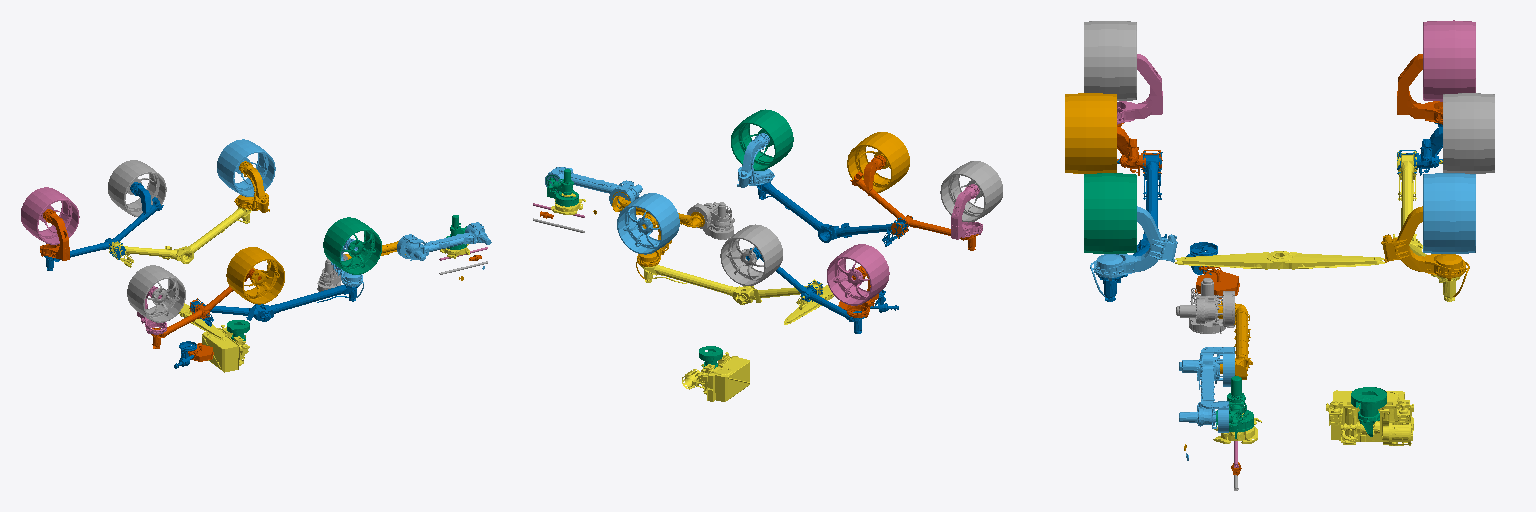
--- Render facts (derived) ---
3 views of the same robot in one strip: view 1: azimuth 30°, elevation 25°; view 2: azimuth 150°, elevation 25°; view 3: azimuth 270°, elevation 25° (orthographic).
Model Perseverance with 115 links and 114 joints (26 revolute, 3 prismatic, 85 fixed), rooted at ground, posed every joint at zero.
Visible links, largest first — view 1: Body_WheelLeftRear, Body_WheelLeftFront, Body_WheelLeftMiddle, Body_WheelRightRear, Body_WheelRightFront, Body_WheelRightMiddle, Body_RockerLeft, Body_RockerRight, Body_RA_Link3, Body_BogieRight, Body_RSM_EL, Body_SteerRightFront (+2 smaller); view 2: Body_WheelRightRear, Body_WheelRightMiddle, Body_WheelRightFront, Body_WheelLeftRear, Body_WheelLeftFront, Body_WheelLeftMiddle, Body_RSM_EL, Body_RockerRight, Body_RockerLeft, Body_BogieLeft, Body_RA_Link3, Body_RA_Link1 (+5 smaller); view 3: Body_WheelRightFront, Body_WheelLeftFront, Body_WheelLeftMiddle, Body_WheelRightMiddle, Body_WheelRightRear, Body_WheelLeftRear, Body_RSM_EL, Body_RA_Link3, Body_Differential, Body_SteerRightFront, Body_SteerLeftFront, Body_RA_Link1 (+10 smaller).
Boxes of the visible links, x1=… form: Body_WheelLeftRear: x1=127, y1=265, x2=185, y2=322; Body_WheelLeftFront: x1=323, y1=217, x2=381, y2=274; Body_WheelLeftMiddle: x1=226, y1=247, x2=284, y2=304; Body_WheelRightRear: x1=21, y1=187, x2=79, y2=244; Body_WheelRightFront: x1=217, y1=139, x2=275, y2=196; Body_WheelRightMiddle: x1=108, y1=160, x2=166, y2=216; Body_RockerLeft: x1=190, y1=285, x2=359, y2=326; Body_RockerRight: x1=109, y1=207, x2=251, y2=267; Body_RA_Link3: x1=397, y1=222, x2=491, y2=260; Body_BogieRight: x1=44, y1=182, x2=163, y2=270; Body_RSM_EL: x1=202, y1=325, x2=249, y2=372; Body_SteerRightFront: x1=234, y1=161, x2=269, y2=212; Body_WheelRightRear: x1=827, y1=244, x2=889, y2=305; Body_WheelRightMiddle: x1=720, y1=224, x2=782, y2=285; Body_WheelRightFront: x1=617, y1=193, x2=679, y2=254; Body_WheelLeftRear: x1=940, y1=161, x2=1002, y2=222; Body_WheelLeftFront: x1=731, y1=109, x2=793, y2=170; Body_WheelLeftMiddle: x1=847, y1=132, x2=909, y2=192; Body_RSM_EL: x1=682, y1=352, x2=749, y2=401; Body_RockerRight: x1=640, y1=265, x2=822, y2=309; Body_RockerLeft: x1=756, y1=182, x2=912, y2=246; Body_BogieLeft: x1=850, y1=155, x2=978, y2=250; Body_RA_Link3: x1=545, y1=167, x2=642, y2=212; Body_RA_Link1: x1=687, y1=202, x2=734, y2=239; Body_WheelRightFront: x1=1423, y1=173, x2=1475, y2=253; Body_WheelLeftFront: x1=1084, y1=173, x2=1136, y2=253; Body_WheelLeftMiddle: x1=1065, y1=93, x2=1116, y2=173; Body_WheelRightMiddle: x1=1443, y1=93, x2=1494, y2=173; Body_WheelRightRear: x1=1423, y1=20, x2=1475, y2=101; Body_WheelLeftRear: x1=1084, y1=21, x2=1136, y2=100; Body_RSM_EL: x1=1326, y1=390, x2=1413, y2=445; Body_RA_Link3: x1=1179, y1=347, x2=1234, y2=432; Body_Differential: x1=1175, y1=251, x2=1384, y2=269; Body_SteerRightFront: x1=1381, y1=206, x2=1469, y2=296; Body_SteerLeftFront: x1=1090, y1=206, x2=1177, y2=297; Body_RA_Link1: x1=1176, y1=278, x2=1234, y2=333.
Size in the robot's own frame: 4.53 by 2.7 by 2.07 metres.
29 mesh visuals loaded from 31 distinct referenced files (29 binary STL); not drawn: 2 (reference not matched to a file when rendering).

URDF robot description (Perseverance):
<?xml version="1.0" ?>
<!-- This file was generated automatically. [2021_08_18_14_10_08] -->
<!-- [Tool url: [email redacted]:CR/rst.git, branch: dev/working, commit_hash: 47e8686b, commit_time: 2021-08-16 19:00:50 -0700] -->

<robot name="Perseverance">
	<link name="ground">
	</link>
	<link name="Body_Chassis">
		<inertial>
			<origin xyz="0.09002 0 -1.13338" rpy="0 -0 0"/>
			<mass value="0"/>
			<inertia ixx="0" ixy="0" ixz="0" iyy="0" iyz="0" izz="0"/>
		</inertial>
		<visual name="VisGeom_CHASSIS">
			<origin xyz="0.09002 0 -1.13338" rpy="0 -0 0"/>
			<geometry>
				<mesh filename="package://osr_description/meshes/CHASSIS.stl" scale="1 1 1"/>
			</geometry>
		</visual>
	</link>
	<link name="Body_MHS_DebrisShield">
		<inertial>
			<origin xyz="0 0 0" rpy="0 -0 0"/>
			<mass value="0"/>
			<inertia ixx="0" ixy="0" ixz="0" iyy="0" iyz="0" izz="0"/>
		</inertial>
		<!-- hidden visual element
		<visual name="VisGeom_MHS_DebrisShield">
			<origin xyz="0 0 0" rpy="0 -0 0"/>
			<geometry>
				<mesh filename="package://osr_description/meshes/MHS_DebrisShield.stl" scale="1 1 1"/>
			</geometry>
		</visual>
		-->
	</link>
	<link name="Body_Differential">
		<inertial>
			<origin xyz="0.142 0 0" rpy="0 -0 0"/>
			<mass value="0"/>
			<inertia ixx="0" ixy="0" ixz="0" iyy="0" iyz="0" izz="0"/>
		</inertial>
		<visual name="VisGeom_CenterDifferential">
			<origin xyz="0.142 0 0" rpy="0 -0 0"/>
			<geometry>
				<mesh filename="package://osr_description/meshes/CenterDifferential.stl" scale="1 1 1"/>
			</geometry>
		</visual>
	</link>
	<link name="Body_RockerLeft">
		<inertial>
			<origin xyz="-0.214 0.79959 -0.2405" rpy="0 -0 0"/>
			<mass value="0"/>
			<inertia ixx="0" ixy="0" ixz="0" iyy="0" iyz="0" izz="0"/>
		</inertial>
		<visual name="VisGeom_Left_Rocker">
			<origin xyz="-0.214 0.79959 -0.2405" rpy="0 -0 0"/>
			<geometry>
				<mesh filename="package://osr_description/meshes/Left_Rocker.stl" scale="1 1 1"/>
			</geometry>
		</visual>
	</link>
	<link name="Body_BogieLeft">
		<inertial>
			<origin xyz="0.54 0.91959 -0.4705" rpy="0 -0 0"/>
			<mass value="0"/>
			<inertia ixx="0" ixy="0" ixz="0" iyy="0" iyz="0" izz="0"/>
		</inertial>
		<visual name="VisGeom_Left_Bogie">
			<origin xyz="0.54 0.91959 -0.4705" rpy="0 -0 0"/>
			<geometry>
				<mesh filename="package://osr_description/meshes/Left_Bogie.stl" scale="1 1 1"/>
			</geometry>
		</visual>
	</link>
	<link name="Body_SteerLeftRear">
		<inertial>
			<origin xyz="1.165 1.0625 -0.8705" rpy="0 -0 0"/>
			<mass value="0"/>
			<inertia ixx="0" ixy="0" ixz="0" iyy="0" iyz="0" izz="0"/>
		</inertial>
		<visual name="VisGeom_Steer_LeftRear">
			<origin xyz="1.165 1.0625 -0.8705" rpy="0 -0 0"/>
			<geometry>
				<mesh filename="package://osr_description/meshes/Steer_LeftRear.stl" scale="1 1 1"/>
			</geometry>
		</visual>
	</link>
	<link name="Body_WheelLeftRear">
		<inertial>
			<origin xyz="1.165 1.0625 -0.8705" rpy="0 -0 0"/>
			<mass value="0"/>
			<inertia ixx="0" ixy="0" ixz="0" iyy="0" iyz="0" izz="0"/>
		</inertial>
		<visual name="VisGeom_Wheel_LeftRear">
			<origin xyz="1.165 1.0625 -0.8705" rpy="0 -0 0"/>
			<geometry>
				<mesh filename="package://osr_description/meshes/Wheel_LeftRear.stl" scale="1 1 1"/>
			</geometry>
		</visual>
	</link>
	<link name="Body_WheelLeftMiddle">
		<inertial>
			<origin xyz="0.09002 1.1845 -0.8705" rpy="0 -0 0"/>
			<mass value="0"/>
			<inertia ixx="0" ixy="0" ixz="0" iyy="0" iyz="0" izz="0"/>
		</inertial>
		<visual name="VisGeom_Wheel_LeftMiddle">
			<origin xyz="0.09002 1.1845 -0.8705" rpy="0 -0 0"/>
			<geometry>
				<mesh filename="package://osr_description/meshes/Wheel_LeftMiddle.stl" scale="1 1 1"/>
			</geometry>
		</visual>
	</link>
	<link name="Body_SteerLeftFront">
		<inertial>
			<origin xyz="-1.095 1.0625 -0.8705" rpy="0 -0 0"/>
			<mass value="0"/>
			<inertia ixx="0" ixy="0" ixz="0" iyy="0" iyz="0" izz="0"/>
		</inertial>
		<visual name="VisGeom_Steer_LeftFront">
			<origin xyz="-1.095 1.0625 -0.8705" rpy="0 -0 0"/>
			<geometry>
				<mesh filename="package://osr_description/meshes/Steer_LeftFront.stl" scale="1 1 1"/>
			</geometry>
		</visual>
	</link>
	<link name="Body_WheelLeftFront">
		<inertial>
			<origin xyz="-1.095 1.0625 -0.8705" rpy="0 -0 0"/>
			<mass value="0"/>
			<inertia ixx="0" ixy="0" ixz="0" iyy="0" iyz="0" izz="0"/>
		</inertial>
		<visual name="VisGeom_Wheel_LeftFront">
			<origin xyz="-1.095 1.0625 -0.8705" rpy="0 -0 0"/>
			<geometry>
				<mesh filename="package://osr_description/meshes/Wheel_LeftFront.stl" scale="1 1 1"/>
			</geometry>
		</visual>
	</link>
	<link name="Body_RockerRight">
		<inertial>
			<origin xyz="-0.214 -0.79959 -0.2405" rpy="0 -0 0"/>
			<mass value="0"/>
			<inertia ixx="0" ixy="0" ixz="0" iyy="0" iyz="0" izz="0"/>
		</inertial>
		<visual name="VisGeom_Right_Rocker">
			<origin xyz="-0.214 -0.79959 -0.2405" rpy="0 -0 0"/>
			<geometry>
				<mesh filename="package://osr_description/meshes/Right_Rocker.stl" scale="1 1 1"/>
			</geometry>
		</visual>
	</link>
	<link name="Body_BogieRight">
		<inertial>
			<origin xyz="0.54 -0.91959 -0.4705" rpy="0 -0 0"/>
			<mass value="0"/>
			<inertia ixx="0" ixy="0" ixz="0" iyy="0" iyz="0" izz="0"/>
		</inertial>
		<visual name="VisGeom_Right_Bogie">
			<origin xyz="0.54 -0.91959 -0.4705" rpy="0 -0 0"/>
			<geometry>
				<mesh filename="package://osr_description/meshes/Right_Bogie.stl" scale="1 1 1"/>
			</geometry>
		</visual>
	</link>
	<link name="Body_SteerRightRear">
		<inertial>
			<origin xyz="1.165 -1.0625 -0.8705" rpy="0 -0 0"/>
			<mass value="0"/>
			<inertia ixx="0" ixy="0" ixz="0" iyy="0" iyz="0" izz="0"/>
		</inertial>
		<visual name="VisGeom_Steer_RightRear">
			<origin xyz="1.165 -1.0625 -0.8705" rpy="0 -0 0"/>
			<geometry>
				<mesh filename="package://osr_description/meshes/Steer_RightRear.stl" scale="1 1 1"/>
			</geometry>
		</visual>
	</link>
	<link name="Body_WheelRightRear">
		<inertial>
			<origin xyz="1.165 -1.0625 -0.8705" rpy="0 -0 0"/>
			<mass value="0"/>
			<inertia ixx="0" ixy="0" ixz="0" iyy="0" iyz="0" izz="0"/>
		</inertial>
		<visual name="VisGeom_Wheel_RightRear">
			<origin xyz="1.165 -1.0625 -0.8705" rpy="0 -0 0"/>
			<geometry>
				<mesh filename="package://osr_description/meshes/Wheel_RightRear.stl" scale="1 1 1"/>
			</geometry>
		</visual>
	</link>
	<link name="Body_WheelRightMiddle">
		<inertial>
			<origin xyz="0.09002 -1.1845 -0.8705" rpy="0 -0 0"/>
			<mass value="0"/>
			<inertia ixx="0" ixy="0" ixz="0" iyy="0" iyz="0" izz="0"/>
		</inertial>
		<visual name="VisGeom_Wheel_RightMiddle">
			<origin xyz="0.09002 -1.1845 -0.8705" rpy="0 -0 0"/>
			<geometry>
				<mesh filename="package://osr_description/meshes/Wheel_RightMiddle.stl" scale="1 1 1"/>
			</geometry>
		</visual>
	</link>
	<link name="Body_SteerRightFront">
		<inertial>
			<origin xyz="-1.095 -1.0625 -0.8705" rpy="0 -0 0"/>
			<mass value="0"/>
			<inertia ixx="0" ixy="0" ixz="0" iyy="0" iyz="0" izz="0"/>
		</inertial>
		<visual name="VisGeom_Steer_RightFront">
			<origin xyz="-1.095 -1.0625 -0.8705" rpy="0 -0 0"/>
			<geometry>
				<mesh filename="package://osr_description/meshes/Steer_RightFront.stl" scale="1 1 1"/>
			</geometry>
		</visual>
	</link>
	<link name="Body_WheelRightFront">
		<inertial>
			<origin xyz="-1.095 -1.0625 -0.8705" rpy="0 -0 0"/>
			<mass value="0"/>
			<inertia ixx="0" ixy="0" ixz="0" iyy="0" iyz="0" izz="0"/>
		</inertial>
		<visual name="VisGeom_Wheel_RightFront">
			<origin xyz="-1.095 -1.0625 -0.8705" rpy="0 -0 0"/>
			<geometry>
				<mesh filename="package://osr_description/meshes/Wheel_RightFront.stl" scale="1 1 1"/>
			</geometry>
		</visual>
	</link>
	<link name="Body_RSM_AZ">
		<inertial>
			<origin xyz="-0.714017 -0.559028 0.78589" rpy="0 -0 0"/>
			<mass value="0"/>
			<inertia ixx="0" ixy="0" ixz="0" iyy="0" iyz="0" izz="0"/>
		</inertial>
		<visual name="VisGeom_RSM">
			<origin xyz="-0.714017 -0.559028 0.78589" rpy="0 -0 0"/>
			<geometry>
				<mesh filename="package://osr_description/meshes/RSM.stl" scale="1 1 1"/>
			</geometry>
		</visual>
	</link>
	<link name="Body_RSM_EL">
		<inertial>
			<origin xyz="-0.714017 -0.559028 0.78589" rpy="0 -0 0"/>
			<mass value="0"/>
			<inertia ixx="0" ixy="0" ixz="0" iyy="0" iyz="0" izz="0"/>
		</inertial>
		<visual name="VisGeom_RSM_HEAD">
			<origin xyz="-0.714017 -0.559028 0.78589" rpy="0 -0 0"/>
			<geometry>
				<mesh filename="package://osr_description/meshes/RSM_Head.stl" scale="1 1 1"/>
			</geometry>
		</visual>
	</link>
	<link name="Body_HGA_AZ">
		<inertial>
			<origin xyz="0.46 0.475 -0.0005" rpy="0 -0 0"/>
			<mass value="0"/>
			<inertia ixx="0" ixy="0" ixz="0" iyy="0" iyz="0" izz="0"/>
		</inertial>
		<visual name="VisGeom_HGA_AZ">
			<origin xyz="0.46 0.475 -0.0005" rpy="0 -0 0"/>
			<geometry>
				<mesh filename="package://osr_description/meshes/HGA_AZ.stl" scale="1 1 1"/>
			</geometry>
		</visual>
	</link>
	<link name="Body_HGA_EL">
		<inertial>
			<origin xyz="0.46 0.475 0.2475" rpy="0 -0 0"/>
			<mass value="0"/>
			<inertia ixx="0" ixy="0" ixz="0" iyy="0" iyz="0" izz="0"/>
		</inertial>
		<visual name="VisGeom_HGA_EL">
			<origin xyz="0.46 0.475 0.2475" rpy="0 -0 0"/>
			<geometry>
				<mesh filename="package://osr_description/meshes/HGA_EL.stl" scale="1 1 1"/>
			</geometry>
		</visual>
	</link>
	<link name="Body_RA_Base">
		<inertial>
			<origin xyz="0 0 0" rpy="0 -0 0"/>
			<mass value="0"/>
			<inertia ixx="0" ixy="0" ixz="0" iyy="0" iyz="0" izz="0"/>
		</inertial>
	</link>
	<link name="Body_RA_Link1">
		<inertial>
			<origin xyz="-1.1756 0.4515 -0.3116" rpy="0 -0 0"/>
			<mass value="0"/>
			<inertia ixx="0" ixy="0" ixz="0" iyy="0" iyz="0" izz="0"/>
		</inertial>
		<visual name="VisGeom_Arm_LINK_1">
			<origin xyz="-1.1756 0.4515 -0.3116" rpy="0 -0 0"/>
			<geometry>
				<mesh filename="package://osr_description/meshes/Arm_LINK_1.stl" scale="1 1 1"/>
			</geometry>
		</visual>
	</link>
	<link name="Body_RA_Link2">
		<inertial>
			<origin xyz="-1.3416 0.4515 -0.3116" rpy="0 -0 0"/>
			<mass value="0"/>
			<inertia ixx="0" ixy="0" ixz="0" iyy="0" iyz="0" izz="0"/>
		</inertial>
		<visual name="VisGeom_Arm_LINK_2">
			<origin xyz="-1.3416 0.4515 -0.3116" rpy="0 -0 0"/>
			<geometry>
				<mesh filename="package://osr_description/meshes/Arm_LINK_2.stl" scale="1 1 1"/>
			</geometry>
		</visual>
	</link>
	<link name="Body_RA_Link3">
		<inertial>
			<origin xyz="-2.161 0.4515 -0.3116" rpy="0 -0 0"/>
			<mass value="0"/>
			<inertia ixx="0" ixy="0" ixz="0" iyy="0" iyz="0" izz="0"/>
		</inertial>
		<visual name="VisGeom_Arm_LINK_3">
			<origin xyz="-2.161 0.4515 -0.3116" rpy="0 -0 0"/>
			<geometry>
				<mesh filename="package://osr_description/meshes/Arm_LINK_3.stl" scale="1 1 1"/>
			</geometry>
		</visual>
	</link>
	<link name="Body_RA_Link4">
		<inertial>
			<origin xyz="-2.9143 0.4515 -0.3116" rpy="0 -0 0"/>
			<mass value="0"/>
			<inertia ixx="0" ixy="0" ixz="0" iyy="0" iyz="0" izz="0"/>
		</inertial>
		<visual name="VisGeom_Arm_LINK_4">
			<origin xyz="-2.9143 0.4515 -0.3116" rpy="0 -0 0"/>
			<geometry>
				<mesh filename="package://osr_description/meshes/Arm_LINK_4.stl" scale="1 1 1"/>
			</geometry>
		</visual>
	</link>
	<link name="Body_RA_Link5">
		<inertial>
			<origin xyz="-2.7386 0.2724 -0.3116" rpy="0 -0 0"/>
			<mass value="0"/>
			<inertia ixx="0" ixy="0" ixz="0" iyy="0" iyz="0" izz="0"/>
		</inertial>
		<visual name="VisGeom_Arm_LINK_5">
			<origin xyz="-2.7386 0.2724 -0.3116" rpy="0 -0 0"/>
			<geometry>
				<mesh filename="package://osr_description/meshes/Arm_LINK_5.stl" scale="1 1 1"/>
			</geometry>
		</visual>
	</link>
	<link name="Body_Turret">
		<inertial>
			<origin xyz="0 0 0" rpy="0 -0 0"/>
			<mass value="0"/>
			<inertia ixx="0" ixy="0" ixz="0" iyy="0" iyz="0" izz="0"/>
		</inertial>
		<visual name="VisGeom_Turret">
			<origin xyz="0 0 0" rpy="0 -0 0"/>
			<geometry>
				<mesh filename="package://osr_description/meshes/Turret.stl" scale="1 1 1"/>
			</geometry>
		</visual>
	</link>
	<link name="Body_CorerFeed">
		<inertial>
			<origin xyz="-2.5301 0.272349 0.0168656" rpy="0 -0 0"/>
			<mass value="0"/>
			<inertia ixx="0" ixy="0" ixz="0" iyy="0" iyz="0" izz="0"/>
		</inertial>
		<!-- hidden visual element
		<visual name="VisGeom_LaunchBit">
			<origin xyz="0.208499 -5.1e-05 -3.438e-05" rpy="0 -0 0"/>
			<geometry>
				<mesh filename="package://osr_description/meshes/LaunchBitInTurretAtZeroFeed.stl" scale="1 1 1"/>
			</geometry>
		</visual>
		-->
		<visual name="VisGeom_AbradingBit">
			<origin xyz="0.208499 -5.1e-05 -3.438e-05" rpy="0 -0 0"/>
			<geometry>
				<mesh filename="package://osr_description/meshes/AbradingBitInTurretAtZeroFeed.stl" scale="1 1 1"/>
			</geometry>
		</visual>
		<!-- hidden visual element
		<visual name="VisGeom_CoringBit">
			<origin xyz="0.208499 -5.1e-05 -3.438e-05" rpy="0 -0 0"/>
			<geometry>
				<mesh filename="package://osr_description/meshes/CoringBitInTurretAtZeroFeed.stl" scale="1 1 1"/>
			</geometry>
		</visual>
		-->
		<!-- hidden visual element
		<visual name="VisGeom_RegolithBit">
			<origin xyz="0.208499 -5.1e-05 -3.438e-05" rpy="0 -0 0"/>
			<geometry>
				<mesh filename="package://osr_description/meshes/RegolithBitInTurretAtZeroFeed.stl" scale="1 1 1"/>
			</geometry>
		</visual>
		-->
	</link>
	<link name="Body_StabilizerFar">
		<inertial>
			<origin xyz="-2.5301 0.272349 0.0168656" rpy="0 -0 0"/>
			<mass value="0"/>
			<inertia ixx="0" ixy="0" ixz="0" iyy="0" iyz="0" izz="0"/>
		</inertial>
		<visual name="VisGeom_StabilizerFar">
			<origin xyz="0.208499 -5.1e-05 -3.438e-05" rpy="0 -0 0"/>
			<geometry>
				<mesh filename="package://osr_description/meshes/StabilizerFarInTurret.stl" scale="1 1 1"/>
			</geometry>
		</visual>
	</link>
	<link name="Body_StabilizerNear">
		<inertial>
			<origin xyz="-2.5301 0.272349 0.0168656" rpy="0 -0 0"/>
			<mass value="0"/>
			<inertia ixx="0" ixy="0" ixz="0" iyy="0" iyz="0" izz="0"/>
		</inertial>
		<visual name="VisGeom_StabilizerNear">
			<origin xyz="0.208499 -5.1e-05 -3.438e-05" rpy="0 -0 0"/>
			<geometry>
				<mesh filename="package://osr_description/meshes/StabilizerNearInTurret.stl" scale="1 1 1"/>
			</geometry>
		</visual>
	</link>
	<link name="Body_WATSON_Cap">
		<inertial>
			<origin xyz="-2.6025 0.581204 0.0309103" rpy="0 -0 0"/>
			<mass value="0"/>
			<inertia ixx="0" ixy="0" ixz="0" iyy="0" iyz="0" izz="0"/>
		</inertial>
		<visual name="VisGeom_WATSON_Cap">
			<origin xyz="-2.6025 0.581204 0.0309103" rpy="0 -0 0"/>
			<geometry>
				<mesh filename="package://osr_description/meshes/WATSON_Camera_Cap.stl" scale="1 1 1"/>
			</geometry>
		</visual>
	</link>
	<link name="Body_SHERLOC_Cap">
		<inertial>
			<origin xyz="-2.86084 0.58439 -0.0124626" rpy="0 -0 0"/>
			<mass value="0"/>
			<inertia ixx="0" ixy="0" ixz="0" iyy="0" iyz="0" izz="0"/>
		</inertial>
		<visual name="VisGeom_SHERLOC_Cap">
			<origin xyz="-2.86084 0.58439 -0.0124626" rpy="0 -0 0"/>
			<geometry>
				<mesh filename="package://osr_description/meshes/ContextImager_Cap.stl" scale="1 1 1"/>
			</geometry>
		</visual>
	</link>
	<link name="Frame_RNAV">
		<inertial>
			<origin xyz="0 0 0" rpy="0 -0 0"/>
			<mass value="0"/>
			<inertia ixx="0" ixy="0" ixz="0" iyy="0" iyz="0" izz="0"/>
		</inertial>
	</link>
	<link name="Frame_RMECH">
		<inertial>
			<origin xyz="0 0 0" rpy="0 -0 0"/>
			<mass value="0"/>
			<inertia ixx="0" ixy="0" ixz="0" iyy="0" iyz="0" izz="0"/>
		</inertial>
	</link>
	<link name="Frame_FHCB">
		<inertial>
			<origin xyz="0 0 0" rpy="0 -0 0"/>
			<mass value="0"/>
			<inertia ixx="0" ixy="0" ixz="0" iyy="0" iyz="0" izz="0"/>
		</inertial>
	</link>
	<link name="Frame_FHC1">
		<inertial>
			<origin xyz="0 0 0" rpy="0 -0 0"/>
			<mass value="0"/>
			<inertia ixx="0" ixy="0" ixz="0" iyy="0" iyz="0" izz="0"/>
		</inertial>
	</link>
	<link name="Frame_FHC2">
		<inertial>
			<origin xyz="0 0 0" rpy="0 -0 0"/>
			<mass value="0"/>
			<inertia ixx="0" ixy="0" ixz="0" iyy="0" iyz="0" izz="0"/>
		</inertial>
	</link>
	<link name="Frame_FHC3">
		<inertial>
			<origin xyz="0 0 0" rpy="0 -0 0"/>
			<mass value="0"/>
			<inertia ixx="0" ixy="0" ixz="0" iyy="0" iyz="0" izz="0"/>
		</inertial>
	</link>
	<link name="Frame_FHC4">
		<inertial>
			<origin xyz="0 0 0" rpy="0 -0 0"/>
			<mass value="0"/>
			<inertia ixx="0" ixy="0" ixz="0" iyy="0" iyz="0" izz="0"/>
		</inertial>
	</link>
	<link name="Frame_FHC1_FOV">
		<inertial>
			<origin xyz="0 0 0" rpy="0 -0 0"/>
			<mass value="0"/>
			<inertia ixx="0" ixy="0" ixz="0" iyy="0" iyz="0" izz="0"/>
		</inertial>
	</link>
	<link name="Frame_FHC2_FOV">
		<inertial>
			<origin xyz="0 0 0" rpy="0 -0 0"/>
			<mass value="0"/>
			<inertia ixx="0" ixy="0" ixz="0" iyy="0" iyz="0" izz="0"/>
		</inertial>
	</link>
	<link name="Frame_FHC3_FOV">
		<inertial>
			<origin xyz="0 0 0" rpy="0 -0 0"/>
			<mass value="0"/>
			<inertia ixx="0" ixy="0" ixz="0" iyy="0" iyz="0" izz="0"/>
		</inertial>
	</link>
	<link name="Frame_FHC4_FOV">
		<inertial>
			<origin xyz="0 0 0" rpy="0 -0 0"/>
			<mass value="0"/>
			<inertia ixx="0" ixy="0" ixz="0" iyy="0" iyz="0" izz="0"/>
		</inertial>
	</link>
	<link name="Frame_RHC1">
		<inertial>
			<origin xyz="0 0 0" rpy="0 -0 0"/>
			<mass value="0"/>
			<inertia ixx="0" ixy="0" ixz="0" iyy="0" iyz="0" izz="0"/>
		</inertial>
	</link>
	<link name="Frame_RHC2">
		<inertial>
			<origin xyz="0 0 0" rpy="0 -0 0"/>
			<mass value="0"/>
			<inertia ixx="0" ixy="0" ixz="0" iyy="0" iyz="0" izz="0"/>
		</inertial>
	</link>
	<link name="Frame_RHC1_FOV">
		<inertial>
			<origin xyz="0 0 0" rpy="0 -0 0"/>
			<mass value="0"/>
			<inertia ixx="0" ixy="0" ixz="0" iyy="0" iyz="0" izz="0"/>
		</inertial>
	</link>
	<link name="Frame_RHC2_FOV">
		<inertial>
			<origin xyz="0 0 0" rpy="0 -0 0"/>
			<mass value="0"/>
			<inertia ixx="0" ixy="0" ixz="0" iyy="0" iyz="0" izz="0"/>
		</inertial>
	</link>
	<link name="Frame_ATS1">
		<inertial>
			<origin xyz="0 0 0" rpy="0 -0 0"/>
			<mass value="0"/>
			<inertia ixx="0" ixy="0" ixz="0" iyy="0" iyz="0" izz="0"/>
		</inertial>
	</link>
	<link name="Frame_ATS2">
		<inertial>
			<origin xyz="0 0 0" rpy="0 -0 0"/>
			<mass value="0"/>
			<inertia ixx="0" ixy="0" ixz="0" iyy="0" iyz="0" izz="0"/>
		</inertial>
	</link>
	<link name="Frame_ATS3">
		<inertial>
			<origin xyz="0 0 0" rpy="0 -0 0"/>
			<mass value="0"/>
			<inertia ixx="0" ixy="0" ixz="0" iyy="0" iyz="0" izz="0"/>
		</inertial>
	</link>
	<link name="Frame_ATS4">
		<inertial>
			<origin xyz="0 0 0" rpy="0 -0 0"/>
			<mass value="0"/>
			<inertia ixx="0" ixy="0" ixz="0" iyy="0" iyz="0" izz="0"/>
		</inertial>
	</link>
	<link name="Frame_ATS5">
		<inertial>
			<origin xyz="0 0 0" rpy="0 -0 0"/>
			<mass value="0"/>
			<inertia ixx="0" ixy="0" ixz="0" iyy="0" iyz="0" izz="0"/>
		</inertial>
	</link>
	<link name="Frame_HS">
		<inertial>
			<origin xyz="0 0 0" rpy="0 -0 0"/>
			<mass value="0"/>
			<inertia ixx="0" ixy="0" ixz="0" iyy="0" iyz="0" izz="0"/>
		</inertial>
	</link>
	<link name="Frame_ICU">
		<inertial>
			<origin xyz="0 0 0" rpy="0 -0 0"/>
			<mass value="0"/>
			<inertia ixx="0" ixy="0" ixz="0" iyy="0" iyz="0" izz="0"/>
		</inertial>
	</link>
	<link name="Frame_RDS">
		<inertial>
			<origin xyz="0 0 0" rpy="0 -0 0"/>
			<mass value="0"/>
			<inertia ixx="0" ixy="0" ixz="0" iyy="0" iyz="0" izz="0"/>
		</inertial>
	</link>
	<link name="Frame_TIRS">
		<inertial>
			<origin xyz="0 0 0" rpy="0 -0 0"/>
			<mass value="0"/>
			<inertia ixx="0" ixy="0" ixz="0" iyy="0" iyz="0" izz="0"/>
		</inertial>
	</link>
	<link name="Frame_WS1">
		<inertial>
			<origin xyz="0 0 0" rpy="0 -0 0"/>
			<mass value="0"/>
			<inertia ixx="0" ixy="0" ixz="0" iyy="0" iyz="0" izz="0"/>
		</inertial>
	</link>
	<link name="Frame_WS2">
		<inertial>
			<origin xyz="0 0 0" rpy="0 -0 0"/>
			<mass value="0"/>
			<inertia ixx="0" ixy="0" ixz="0" iyy="0" iyz="0" izz="0"/>
		</inertial>
	</link>
	<link name="Frame_MOXIE">
		<inertial>
			<origin xyz="0 0 0" rpy="0 -0 0"/>
			<mass value="0"/>
			<inertia ixx="0" ixy="0" ixz="0" iyy="0" iyz="0" izz="0"/>
		</inertial>
	</link>
	<link name="Frame_MI">
		<inertial>
			<origin xyz="0 0 0" rpy="0 -0 0"/>
			<mass value="0"/>
			<inertia ixx="0" ixy="0" ixz="0" iyy="0" iyz="0" izz="0"/>
		</inertial>
	</link>
	<link name="Frame_MAZ">
		<inertial>
			<origin xyz="0 0 0" rpy="0 -0 0"/>
			<mass value="0"/>
			<inertia ixx="0" ixy="0" ixz="0" iyy="0" iyz="0" izz="0"/>
		</inertial>
	</link>
	<link name="Frame_MEL">
		<inertial>
			<origin xyz="0 0 0" rpy="0 -0 0"/>
			<mass value="0"/>
			<inertia ixx="0" ixy="0" ixz="0" iyy="0" iyz="0" izz="0"/>
		</inertial>
	</link>
	<link name="Frame_SCI">
		<inertial>
			<origin xyz="0 0 0" rpy="0 -0 0"/>
			<mass value="0"/>
			<inertia ixx="0" ixy="0" ixz="0" iyy="0" iyz="0" izz="0"/>
		</inertial>
	</link>
	<link name="Frame_SCRMI">
		<inertial>
			<origin xyz="0 0 0" rpy="0 -0 0"/>
			<mass value="0"/>
			<inertia ixx="0" ixy="0" ixz="0" iyy="0" iyz="0" izz="0"/>
		</inertial>
	</link>
	<link name="Frame_SCLIBS">
		<inertial>
			<origin xyz="0 0 0" rpy="0 -0 0"/>
			<mass value="0"/>
			<inertia ixx="0" ixy="0" ixz="0" iyy="0" iyz="0" izz="0"/>
		</inertial>
	</link>
	<link name="Frame_SCIR">
		<inertial>
			<origin xyz="0 0 0" rpy="0 -0 0"/>
			<mass value="0"/>
			<inertia ixx="0" ixy="0" ixz="0" iyy="0" iyz="0" izz="0"/>
		</inertial>
	</link>
	<link name="Frame_MCL">
		<inertial>
			<origin xyz="0 0 0" rpy="0 -0 0"/>
			<mass value="0"/>
			<inertia ixx="0" ixy="0" ixz="0" iyy="0" iyz="0" izz="0"/>
		</inertial>
	</link>
	<link name="Frame_MCR">
		<inertial>
			<origin xyz="0 0 0" rpy="0 -0 0"/>
			<mass value="0"/>
			<inertia ixx="0" ixy="0" ixz="0" iyy="0" iyz="0" izz="0"/>
		</inertial>
	</link>
	<link name="Frame_NCL">
		<inertial>
			<origin xyz="0 0 0" rpy="0 -0 0"/>
			<mass value="0"/>
			<inertia ixx="0" ixy="0" ixz="0" iyy="0" iyz="0" izz="0"/>
		</inertial>
	</link>
	<link name="Frame_NCR">
		<inertial>
			<origin xyz="0 0 0" rpy="0 -0 0"/>
			<mass value="0"/>
			<inertia ixx="0" ixy="0" ixz="0" iyy="0" iyz="0" izz="0"/>
		</inertial>
	</link>
	<link name="Frame_NCL_FOV">
		<inertial>
			<origin xyz="0 0 0" rpy="0 -0 0"/>
			<mass value="0"/>
			<inertia ixx="0" ixy="0" ixz="0" iyy="0" iyz="0" izz="0"/>
		</inertial>
	</link>
	<link name="Frame_NCR_FOV">
		<inertial>
			<origin xyz="0 0 0" rpy="0 -0 0"/>
			<mass value="0"/>
			<inertia ixx="0" ixy="0" ixz="0" iyy="0" iyz="0" izz="0"/>
		</inertial>
	</link>
	<link name="Frame_ROCKER_L">
		<inertial>
			<origin xyz="0 0 0" rpy="0 -0 0"/>
			<mass value="0"/>
			<inertia ixx="0" ixy="0" ixz="0" iyy="0" iyz="0" izz="0"/>
		</inertial>
	</link>
	<link name="Frame_ROCKER_R">
		<inertial>
			<origin xyz="0 0 0" rpy="0 -0 0"/>
			<mass value="0"/>
			<inertia ixx="0" ixy="0" ixz="0" iyy="0" iyz="0" izz="0"/>
		</inertial>
	</link>
	<link name="Frame_BOGIE_L">
		<inertial>
			<origin xyz="0 0 0" rpy="0 -0 0"/>
			<mass value="0"/>
			<inertia ixx="0" ixy="0" ixz="0" iyy="0" iyz="0" izz="0"/>
		</inertial>
	</link>
	<link name="Frame_BOGIE_R">
		<inertial>
			<origin xyz="0 0 0" rpy="0 -0 0"/>
			<mass value="0"/>
			<inertia ixx="0" ixy="0" ixz="0" iyy="0" iyz="0" izz="0"/>
		</inertial>
	</link>
	<link name="Frame_DIFF">
		<inertial>
			<origin xyz="0 0 0" rpy="0 -0 0"/>
			<mass value="0"/>
			<inertia ixx="0" ixy="0" ixz="0" iyy="0" iyz="0" izz="0"/>
		</inertial>
	</link>
	<link name="Frame_STEER_LF">
		<inertial>
			<origin xyz="0 0 0" rpy="0 -0 0"/>
			<mass value="0"/>
			<inertia ixx="0" ixy="0" ixz="0" iyy="0" iyz="0" izz="0"/>
		</inertial>
	</link>
	<link name="Frame_STEER_LR">
		<inertial>
			<origin xyz="0 0 0" rpy="0 -0 0"/>
			<mass value="0"/>
			<inertia ixx="0" ixy="0" ixz="0" iyy="0" iyz="0" izz="0"/>
		</inertial>
	</link>
	<link name="Frame_STEER_RF">
		<inertial>
			<origin xyz="0 0 0" rpy="0 -0 0"/>
			<mass value="0"/>
			<inertia ixx="0" ixy="0" ixz="0" iyy="0" iyz="0" izz="0"/>
		</inertial>
	</link>
	<link name="Frame_STEER_RR">
		<inertial>
			<origin xyz="0 0 0" rpy="0 -0 0"/>
			<mass value="0"/>
			<inertia ixx="0" ixy="0" ixz="0" iyy="0" iyz="0" izz="0"/>
		</inertial>
	</link>
	<link name="Frame_WHEEL_LF">
		<inertial>
			<origin xyz="0 0 0" rpy="0 -0 0"/>
			<mass value="0"/>
			<inertia ixx="0" ixy="0" ixz="0" iyy="0" iyz="0" izz="0"/>
		</inertial>
	</link>
	<link name="Frame_WHEEL_LM">
		<inertial>
			<origin xyz="0 0 0" rpy="0 -0 0"/>
			<mass value="0"/>
			<inertia ixx="0" ixy="0" ixz="0" iyy="0" iyz="0" izz="0"/>
		</inertial>
	</link>
	<link name="Frame_WHEEL_LR">
		<inertial>
			<origin xyz="0 0 0" rpy="0 -0 0"/>
			<mass value="0"/>
			<inertia ixx="0" ixy="0" ixz="0" iyy="0" iyz="0" izz="0"/>
		</inertial>
	</link>
	<link name="Frame_WHEEL_RF">
		<inertial>
			<origin xyz="0 0 0" rpy="0 -0 0"/>
			<mass value="0"/>
			<inertia ixx="0" ixy="0" ixz="0" iyy="0" iyz="0" izz="0"/>
		</inertial>
	</link>
	<link name="Frame_WHEEL_RM">
		<inertial>
			<origin xyz="0 0 0" rpy="0 -0 0"/>
			<mass value="0"/>
			<inertia ixx="0" ixy="0" ixz="0" iyy="0" iyz="0" izz="0"/>
		</inertial>
	</link>
	<link name="Frame_WHEEL_RR">
		<inertial>
			<origin xyz="0 0 0" rpy="0 -0 0"/>
			<mass value="0"/>
			<inertia ixx="0" ixy="0" ixz="0" iyy="0" iyz="0" izz="0"/>
		</inertial>
	</link>
	<link name="Frame_RIMUA">
		<inertial>
			<origin xyz="0 0 0" rpy="0 -0 0"/>
			<mass value="0"/>
			<inertia ixx="0" ixy="0" ixz="0" iyy="0" iyz="0" izz="0"/>
		</inertial>
	</link>
	<link name="Frame_RIMUB">
		<inertial>
			<origin xyz="0 0 0" rpy="0 -0 0"/>
			<mass value="0"/>
			<inertia ixx="0" ixy="0" ixz="0" iyy="0" iyz="0" izz="0"/>
		</inertial>
	</link>
	<link name="Frame_RIMFAX">
		<inertial>
			<origin xyz="0 0 0" rpy="0 -0 0"/>
			<mass value="0"/>
			<inertia ixx="0" ixy="0" ixz="0" iyy="0" iyz="0" izz="0"/>
		</inertial>
	</link>
	<link name="Frame_HGAS">
		<inertial>
			<origin xyz="0 0 0" rpy="0 -0 0"/>
			<mass value="0"/>
			<inertia ixx="0" ixy="0" ixz="0" iyy="0" iyz="0" izz="0"/>
		</inertial>
	</link>
	<link name="Frame_HGAG">
		<inertial>
			<origin xyz="0 0 0" rpy="0 -0 0"/>
			<mass value="0"/>
			<inertia ixx="0" ixy="0" ixz="0" iyy="0" iyz="0" izz="0"/>
		</inertial>
	</link>
	<link name="Frame_ANT">
		<inertial>
			<origin xyz="0 0 0" rpy="0 -0 0"/>
			<mass value="0"/>
			<inertia ixx="0" ixy="0" ixz="0" iyy="0" iyz="0" izz="0"/>
		</inertial>
	</link>
	<link name="Frame_RA_BASE">
		<inertial>
			<origin xyz="0 0 0" rpy="0 -0 0"/>
			<mass value="0"/>
			<inertia ixx="0" ixy="0" ixz="0" iyy="0" iyz="0" izz="0"/>
		</inertial>
	</link>
	<link name="Frame_RA1">
		<inertial>
			<origin xyz="0 0 0" rpy="0 -0 0"/>
			<mass value="0"/>
			<inertia ixx="0" ixy="0" ixz="0" iyy="0" iyz="0" izz="0"/>
		</inertial>
	</link>
	<link name="Frame_RA2">
		<inertial>
			<origin xyz="0 0 0" rpy="0 -0 0"/>
			<mass value="0"/>
			<inertia ixx="0" ixy="0" ixz="0" iyy="0" iyz="0" izz="0"/>
		</inertial>
	</link>
	<link name="Frame_RA3">
		<inertial>
			<origin xyz="0 0 0" rpy="0 -0 0"/>
			<mass value="0"/>
			<inertia ixx="0" ixy="0" ixz="0" iyy="0" iyz="0" izz="0"/>
		</inertial>
	</link>
	<link name="Frame_RA4">
		<inertial>
			<origin xyz="0 0 0" rpy="0 -0 0"/>
			<mass value="0"/>
			<inertia ixx="0" ixy="0" ixz="0" iyy="0" iyz="0" izz="0"/>
		</inertial>
	</link>
	<link name="Frame_RA5">
		<inertial>
			<origin xyz="0 0 0" rpy="0 -0 0"/>
			<mass value="0"/>
			<inertia ixx="0" ixy="0" ixz="0" iyy="0" iyz="0" izz="0"/>
		</inertial>
	</link>
	<link name="Frame_RA6">
		<inertial>
			<origin xyz="0 0 0" rpy="0 -0 0"/>
			<mass value="0"/>
			<inertia ixx="0" ixy="0" ixz="0" iyy="0" iyz="0" izz="0"/>
		</inertial>
	</link>
	<link name="Frame_TURRET">
		<inertial>
			<origin xyz="0 0 0" rpy="0 -0 0"/>
			<mass value="0"/>
			<inertia ixx="0" ixy="0" ixz="0" iyy="0" iyz="0" izz="0"/>
		</inertial>
	</link>
	<link name="Frame_DOCKING_POST">
		<inertial>
			<origin xyz="0 0 0" rpy="0 -0 0"/>
			<mass value="0"/>
			<inertia ixx="0" ixy="0" ixz="0" iyy="0" iyz="0" izz="0"/>
		</inertial>
	</link>
	<link name="Frame_DRILL">
		<inertial>
			<origin xyz="0 0 0" rpy="0 -0 0"/>
			<mass value="0"/>
			<inertia ixx="0" ixy="0" ixz="0" iyy="0" iyz="0" izz="0"/>
		</inertial>
	</link>
	<link name="Frame_FCS">
		<inertial>
			<origin xyz="0 0 0" rpy="0 -0 0"/>
			<mass value="0"/>
			<inertia ixx="0" ixy="0" ixz="0" iyy="0" iyz="0" izz="0"/>
		</inertial>
	</link>
	<link name="Frame_GDRT">
		<inertial>
			<origin xyz="0 0 0" rpy="0 -0 0"/>
			<mass value="0"/>
			<inertia ixx="0" ixy="0" ixz="0" iyy="0" iyz="0" izz="0"/>
		</inertial>
	</link>
	<link name="Frame_PIXL">
		<inertial>
			<origin xyz="0 0 0" rpy="0 -0 0"/>
			<mass value="0"/>
			<inertia ixx="0" ixy="0" ixz="0" iyy="0" iyz="0" izz="0"/>
		</inertial>
	</link>
	<link name="Frame_SHERLOC">
		<inertial>
			<origin xyz="0 0 0" rpy="0 -0 0"/>
			<mass value="0"/>
			<inertia ixx="0" ixy="0" ixz="0" iyy="0" iyz="0" izz="0"/>
		</inertial>
	</link>
	<link name="Frame_WATSON">
		<inertial>
			<origin xyz="0 0 0" rpy="0 -0 0"/>
			<mass value="0"/>
			<inertia ixx="0" ixy="0" ixz="0" iyy="0" iyz="0" izz="0"/>
		</inertial>
	</link>
	<link name="Frame_CAL_MC1">
		<inertial>
			<origin xyz="0 0 0" rpy="0 -0 0"/>
			<mass value="0"/>
			<inertia ixx="0" ixy="0" ixz="0" iyy="0" iyz="0" izz="0"/>
		</inertial>
	</link>
	<link name="Frame_CAL_MC2">
		<inertial>
			<origin xyz="0 0 0" rpy="0 -0 0"/>
			<mass value="0"/>
			<inertia ixx="0" ixy="0" ixz="0" iyy="0" iyz="0" izz="0"/>
		</inertial>
	</link>
	<link name="Frame_CAL_SC">
		<inertial>
			<origin xyz="0 0 0" rpy="0 -0 0"/>
			<mass value="0"/>
			<inertia ixx="0" ixy="0" ixz="0" iyy="0" iyz="0" izz="0"/>
		</inertial>
	</link>
	<link name="Frame_CAL_PIXL">
		<inertial>
			<origin xyz="0 0 0" rpy="0 -0 0"/>
			<mass value="0"/>
			<inertia ixx="0" ixy="0" ixz="0" iyy="0" iyz="0" izz="0"/>
		</inertial>
	</link>
	<link name="Frame_CAL_SHERLOC">
		<inertial>
			<origin xyz="0 0 0" rpy="0 -0 0"/>
			<mass value="0"/>
			<inertia ixx="0" ixy="0" ixz="0" iyy="0" iyz="0" izz="0"/>
		</inertial>
	</link>
	<joint name="JointRoot" type="fixed">
		<origin xyz="0 0 0" rpy="0 -0 0"/>
		<parent link="ground"/>
		<child link="Body_Chassis"/>
	</joint>
	<joint name="Joint_MHS_DebrisShield" type="fixed">
		<origin xyz="0.09002 0 -1.13338" rpy="0 -0 0"/>
		<parent link="Body_Chassis"/>
		<child link="Body_MHS_DebrisShield"/>
	</joint>
	<joint name="CENTER_DIFFERENTIAL" type="revolute">
		<origin xyz="-0.05198 0 -1.13338" rpy="0 -0 0"/>
		<parent link="Body_Chassis"/>
		<child link="Body_Differential"/>
		<axis xyz="0 0 1"/>
		<limit lower="-1.79769e+308" upper="1.79769e+308" effort="1.79769e+308" velocity="1.79769e+308"/>
	</joint>
	<joint name="LEFT_DIFFERENTIAL" type="revolute">
		<origin xyz="0.30402 -0.79959 -0.89288" rpy="0 -0 0"/>
		<parent link="Body_Chassis"/>
		<child link="Body_RockerLeft"/>
		<axis xyz="0 1 0"/>
		<limit lower="-1.79769e+308" upper="1.79769e+308" effort="1.79769e+308" velocity="1.79769e+308"/>
	</joint>
	<joint name="LEFT_BOGIE" type="revolute">
		<origin xyz="-0.754 -0.12 0.23" rpy="0 -0 0"/>
		<parent link="Body_RockerLeft"/>
		<child link="Body_BogieLeft"/>
		<axis xyz="0 1 0"/>
		<limit lower="-1.79769e+308" upper="1.79769e+308" effort="1.79769e+308" velocity="1.79769e+308"/>
	</joint>
	<joint name="LR_STEER" type="revolute">
		<origin xyz="-0.625 -0.14291 0.4" rpy="0 -0 0"/>
		<parent link="Body_BogieLeft"/>
		<child link="Body_SteerLeftRear"/>
		<axis xyz="0 0 1"/>
		<limit lower="-1.79769e+308" upper="1.79769e+308" effort="1.79769e+308" velocity="1.79769e+308"/>
	</joint>
	<joint name="LR_DRIVE" type="revolute">
		<origin xyz="0 0 0" rpy="0 -0 0"/>
		<parent link="Body_SteerLeftRear"/>
		<child link="Body_WheelLeftRear"/>
		<axis xyz="0 -1 0"/>
		<limit lower="-1.79769e+308" upper="1.79769e+308" effort="1.79769e+308" velocity="1.79769e+308"/>
	</joint>
	<joint name="LM_DRIVE" type="revolute">
		<origin xyz="0.44998 -0.26491 0.4" rpy="0 -0 0"/>
		<parent link="Body_BogieLeft"/>
		<child link="Body_WheelLeftMiddle"/>
		<axis xyz="0 -1 0"/>
		<limit lower="-1.79769e+308" upper="1.79769e+308" effort="1.79769e+308" velocity="1.79769e+308"/>
	</joint>
	<joint name="LF_STEER" type="revolute">
		<origin xyz="0.881 -0.26291 0.63" rpy="0 -0 0"/>
		<parent link="Body_RockerLeft"/>
		<child link="Body_SteerLeftFront"/>
		<axis xyz="0 0 1"/>
		<limit lower="-1.79769e+308" upper="1.79769e+308" effort="1.79769e+308" velocity="1.79769e+308"/>
	</joint>
	<joint name="LF_DRIVE" type="revolute">
		<origin xyz="0 0 0" rpy="0 -0 0"/>
		<parent link="Body_SteerLeftFront"/>
		<child link="Body_WheelLeftFront"/>
		<axis xyz="0 -1 0"/>
		<limit lower="-1.79769e+308" upper="1.79769e+308" effort="1.79769e+308" velocity="1.79769e+308"/>
	</joint>
	<joint name="RIGHT_DIFFERENTIAL" type="revolute">
		<origin xyz="0.30402 0.79959 -0.89288" rpy="0 -0 0"/>
		<parent link="Body_Chassis"/>
		<child link="Body_RockerRight"/>
		<axis xyz="0 1 0"/>
		<limit lower="-1.79769e+308" upper="1.79769e+308" effort="1.79769e+308" velocity="1.79769e+308"/>
	</joint>
	<joint name="RIGHT_BOGIE" type="revolute">
		<origin xyz="-0.754 0.12 0.23" rpy="0 -0 0"/>
		<parent link="Body_RockerRight"/>
		<child link="Body_BogieRight"/>
		<axis xyz="0 1 0"/>
		<limit lower="-1.79769e+308" upper="1.79769e+308" effort="1.79769e+308" velocity="1.79769e+308"/>
	</joint>
	<joint name="RR_STEER" type="revolute">
		<origin xyz="-0.625 0.14291 0.4" rpy="0 -0 0"/>
		<parent link="Body_BogieRight"/>
		<child link="Body_SteerRightRear"/>
		<axis xyz="0 0 1"/>
		<limit lower="-1.79769e+308" upper="1.79769e+308" effort="1.79769e+308" velocity="1.79769e+308"/>
	</joint>
	<joint name="RR_DRIVE" type="revolute">
		<origin xyz="0 0 0" rpy="0 -0 0"/>
		<parent link="Body_SteerRightRear"/>
		<child link="Body_WheelRightRear"/>
		<axis xyz="0 -1 0"/>
		<limit lower="-1.79769e+308" upper="1.79769e+308" effort="1.79769e+308" velocity="1.79769e+308"/>
	</joint>
	<joint name="RM_DRIVE" type="revolute">
		<origin xyz="0.44998 0.26491 0.4" rpy="0 -0 0"/>
		<parent link="Body_BogieRight"/>
		<child link="Body_WheelRightMiddle"/>
		<axis xyz="0 -1 0"/>
		<limit lower="-1.79769e+308" upper="1.79769e+308" effort="1.79769e+308" velocity="1.79769e+308"/>
	</joint>
	<joint name="RF_STEER" type="revolute">
		<origin xyz="0.881 0.26291 0.63" rpy="0 -0 0"/>
		<parent link="Body_RockerRight"/>
		<child link="Body_SteerRightFront"/>
		<axis xyz="0 0 1"/>
		<limit lower="-1.79769e+308" upper="1.79769e+308" effort="1.79769e+308" velocity="1.79769e+308"/>
	</joint>
	<joint name="RF_DRIVE" type="revolute">
		<origin xyz="0 0 0" rpy="0 -0 0"/>
		<parent link="Body_SteerRightFront"/>
		<child link="Body_WheelRightFront"/>
		<axis xyz="0 -1 0"/>
		<limit lower="-1.79769e+308" upper="1.79769e+308" effort="1.79769e+308" velocity="1.79769e+308"/>
	</joint>
	<joint name="RSM_AZ_ENC" type="revolute">
		<origin xyz="0.804037 0.559028 -1.91927" rpy="0 -0 3.12414"/>
		<parent link="Body_Chassis"/>
		<child link="Body_RSM_AZ"/>
		<axis xyz="0 0 1"/>
		<limit lower="0" upper="6.31809" effort="1.79769e+308" velocity="1.79769e+308"/>
	</joint>
	<joint name="RSM_EL_ENC" type="revolute">
		<origin xyz="0 0 0" rpy="3.14159 -1.55334 3.14159"/>
		<parent link="Body_RSM_AZ"/>
		<child link="Body_RSM_EL"/>
		<axis xyz="0 1 0"/>
		<limit lower="0" upper="3.1765" effort="1.79769e+308" velocity="1.79769e+308"/>
	</joint>
	<joint name="HGA_AZ" type="revolute">
		<origin xyz="-0.36998 -0.475 -1.13288" rpy="0 -0 0.436332"/>
		<parent link="Body_Chassis"/>
		<child link="Body_HGA_AZ"/>
		<axis xyz="0 0 1"/>
		<limit lower="-1.79769e+308" upper="1.79769e+308" effort="1.79769e+308" velocity="1.79769e+308"/>
	</joint>
	<joint name="HGA_EL" type="revolute">
		<origin xyz="0 0 -0.248" rpy="0.785398 -0 0"/>
		<parent link="Body_HGA_AZ"/>
		<child link="Body_HGA_EL"/>
		<axis xyz="1 0 0"/>
		<limit lower="-1.79769e+308" upper="1.79769e+308" effort="1.79769e+308" velocity="1.79769e+308"/>
	</joint>
	<joint name="JointRobotArmBase" type="fixed">
		<origin xyz="0.09002 0 -1.13338" rpy="0 -0 0"/>
		<parent link="Body_Chassis"/>
		<child link="Body_RA_Base"/>
	</joint>
	<joint name="JOINT1_ENC" type="revolute">
		<origin xyz="1.1756 -0.4515 0.3116" rpy="0 -0 0"/>
		<parent link="Body_RA_Base"/>
		<child link="Body_RA_Link1"/>
		<axis xyz="0 0 1"/>
		<limit lower="-3.145" upper="1.592" effort="1.79769e+308" velocity="1.79769e+308"/>
	</joint>
	<joint name="JOINT2_ENC" type="revolute">
		<origin xyz="0.166 0 0" rpy="0 -0 0"/>
		<parent link="Body_RA_Link1"/>
		<child link="Body_RA_Link2"/>
		<axis xyz="0 -1 0"/>
		<limit lower="-3.267" upper="0.126" effort="1.79769e+308" velocity="1.79769e+308"/>
	</joint>
	<joint name="JOINT3_ENC" type="revolute">
		<origin xyz="0.8194 0 0" rpy="0 -0 0"/>
		<parent link="Body_RA_Link2"/>
		<child link="Body_RA_Link3"/>
		<axis xyz="0 -1 0"/>
		<limit lower="-2.866" upper="2.866" effort="1.79769e+308" velocity="1.79769e+308"/>
	</joint>
	<joint name="JOINT4_ENC" type="revolute">
		<origin xyz="0.7533 0 0" rpy="0 -0 0"/>
		<parent link="Body_RA_Link3"/>
		<child link="Body_RA_Link4"/>
		<axis xyz="0 -1 0"/>
		<limit lower="-0.178" upper="3.669" effort="1.79769e+308" velocity="1.79769e+308"/>
	</joint>
	<joint name="JOINT5_ENC" type="revolute">
		<origin xyz="-0.1757 0.1791 0" rpy="0 -0 0"/>
		<parent link="Body_RA_Link4"/>
		<child link="Body_RA_Link5"/>
		<axis xyz="0 0 1"/>
		<limit lower="-0.353" upper="6.636" effort="1.79769e+308" velocity="1.79769e+308"/>
	</joint>
	<joint name="JointTurret" type="fixed">
		<origin xyz="-2.7386 0.2724 -0.3116" rpy="0 -0 0"/>
		<parent link="Body_RA_Link5"/>
		<child link="Body_Turret"/>
	</joint>
	<joint name="DRILL_FEED" type="prismatic">
		<origin xyz="2.5301 -0.272349 -0.0168656" rpy="0 -0 0"/>
		<parent link="Body_Turret"/>
		<child link="Body_CorerFeed"/>
		<axis xyz="1 0 0"/>
		<limit lower="-1.79769e+308" upper="1.79769e+308" effort="1.79769e+308" velocity="1.79769e+308"/>
	</joint>
	<joint name="STABILIZER_LOWER" type="prismatic">
		<origin xyz="2.5301 -0.272349 -0.0168656" rpy="0 -0 0"/>
		<parent link="Body_Turret"/>
		<child link="Body_StabilizerFar"/>
		<axis xyz="-1 0 0"/>
		<limit lower="-1.79769e+308" upper="1.79769e+308" effort="1.79769e+308" velocity="1.79769e+308"/>
	</joint>
	<joint name="STABILIZER_UPPER" type="prismatic">
		<origin xyz="2.5301 -0.272349 -0.0168656" rpy="0 -0 0"/>
		<parent link="Body_Turret"/>
		<child link="Body_StabilizerNear"/>
		<axis xyz="-1 0 0"/>
		<limit lower="-1.79769e+308" upper="1.79769e+308" effort="1.79769e+308" velocity="1.79769e+308"/>
	</joint>
	<joint name="WATSON_CAP_ENC" type="revolute">
		<origin xyz="2.6025 -0.581204 -0.0309103" rpy="0 -0 0"/>
		<parent link="Body_Turret"/>
		<child link="Body_WATSON_Cap"/>
		<axis xyz="0 0 -1"/>
		<limit lower="-1.79769e+308" upper="1.79769e+308" effort="1.79769e+308" velocity="1.79769e+308"/>
	</joint>
	<joint name="SHERLOC_CAP_ENC" type="revolute">
		<origin xyz="2.86084 -0.58439 0.0124626" rpy="0 -0 0"/>
		<parent link="Body_Turret"/>
		<child link="Body_SHERLOC_Cap"/>
		<axis xyz="0 0 -1"/>
		<limit lower="-1.79769e+308" upper="1.79769e+308" effort="1.79769e+308" velocity="1.79769e+308"/>
	</joint>
	<joint name="Joint_for_Frame_RNAV" type="fixed">
		<origin xyz="0 0 0" rpy="0 -0 0"/>
		<parent link="Body_Chassis"/>
		<child link="Frame_RNAV"/>
	</joint>
	<joint name="Joint_for_Frame_RMECH" type="fixed">
		<origin xyz="0.09002 0 -1.13338" rpy="0 -0 0"/>
		<parent link="Body_Chassis"/>
		<child link="Frame_RMECH"/>
	</joint>
	<joint name="Joint_for_Frame_FHCB" type="fixed">
		<origin xyz="0.95652 0.074 -0.76858" rpy="0 -0 0"/>
		<parent link="Body_Chassis"/>
		<child link="Frame_FHCB"/>
	</joint>
	<joint name="Joint_for_Frame_FHC1" type="fixed">
		<origin xyz="1.03958 0.226094 -0.760608" rpy="-0.174841 1.117 -0.000247676"/>
		<parent link="Body_Chassis"/>
		<child link="Frame_FHC1"/>
	</joint>
	<joint name="Joint_for_Frame_FHC2" type="fixed">
		<origin xyz="1.05159 -0.002264 -0.754746" rpy="0.174841 1.117 0.000247676"/>
		<parent link="Body_Chassis"/>
		<child link="Frame_FHC2"/>
	</joint>
	<joint name="Joint_for_Frame_FHC3" type="fixed">
		<origin xyz="1.05159 0.150264 -0.754746" rpy="-0.174841 1.117 -0.000247676"/>
		<parent link="Body_Chassis"/>
		<child link="Frame_FHC3"/>
	</joint>
	<joint name="Joint_for_Frame_FHC4" type="fixed">
		<origin xyz="1.03958 -0.078094 -0.760608" rpy="0.174841 1.117 0.000247676"/>
		<parent link="Body_Chassis"/>
		<child link="Frame_FHC4"/>
	</joint>
	<joint name="Joint_for_Frame_FHC1_FOV" type="fixed">
		<origin xyz="1.09534 0.237039 -0.733411" rpy="-0.174841 1.117 -0.000247676"/>
		<parent link="Body_Chassis"/>
		<child link="Frame_FHC1_FOV"/>
	</joint>
	<joint name="Joint_for_Frame_FHC2_FOV" type="fixed">
		<origin xyz="1.10736 -0.0132091 -0.727549" rpy="0.174841 1.117 0.000247676"/>
		<parent link="Body_Chassis"/>
		<child link="Frame_FHC2_FOV"/>
	</joint>
	<joint name="Joint_for_Frame_FHC3_FOV" type="fixed">
		<origin xyz="1.10736 0.161209 -0.727549" rpy="-0.174841 1.117 -0.000247676"/>
		<parent link="Body_Chassis"/>
		<child link="Frame_FHC3_FOV"/>
	</joint>
	<joint name="Joint_for_Frame_FHC4_FOV" type="fixed">
		<origin xyz="1.09534 -0.0890391 -0.733411" rpy="0.174841 1.117 0.000247676"/>
		<parent link="Body_Chassis"/>
		<child link="Frame_FHC4_FOV"/>
	</joint>
	<joint name="Joint_for_Frame_RHC1" type="fixed">
		<origin xyz="-1.00766 -0.467 -0.77468" rpy="-2.99453e-22 0.785336 3.14159"/>
		<parent link="Body_Chassis"/>
		<child link="Frame_RHC1"/>
	</joint>
	<joint name="Joint_for_Frame_RHC2" type="fixed">
		<origin xyz="-1.00766 0.467 -0.77468" rpy="-2.99453e-22 0.785336 3.14159"/>
		<parent link="Body_Chassis"/>
		<child link="Frame_RHC2"/>
	</joint>
	<joint name="Joint_for_Frame_RHC1_FOV" type="fixed">
		<origin xyz="-1.0522 -0.467 -0.73013" rpy="-2.99453e-22 0.785336 3.14159"/>
		<parent link="Body_Chassis"/>
		<child link="Frame_RHC1_FOV"/>
	</joint>
	<joint name="Joint_for_Frame_RHC2_FOV" type="fixed">
		<origin xyz="-1.0522 0.467 -0.73013" rpy="-2.99453e-22 0.785336 3.14159"/>
		<parent link="Body_Chassis"/>
		<child link="Frame_RHC2_FOV"/>
	</joint>
	<joint name="Joint_for_Frame_ATS1" type="fixed">
		<origin xyz="0.846027 0.597543 -1.44188" rpy="1.5708 -0 2.44323"/>
		<parent link="Body_Chassis"/>
		<child link="Frame_ATS1"/>
	</joint>
	<joint name="Joint_for_Frame_ATS2" type="fixed">
		<origin xyz="0.749647 0.576177 -1.49028" rpy="-1.5708 -0 1.13391"/>
		<parent link="Body_Chassis"/>
		<child link="Frame_ATS2"/>
	</joint>
	<joint name="Joint_for_Frame_ATS3" type="fixed">
		<origin xyz="0.816326 0.50341 -1.44188" rpy="1.5708 -0 0.348992"/>
		<parent link="Body_Chassis"/>
		<child link="Frame_ATS3"/>
	</joint>
	<joint name="Joint_for_Frame_ATS4" type="fixed">
		<origin xyz="0.896872 -0.63405 -0.879074" rpy="-1.5708 -0 -1.5708"/>
		<parent link="Body_Chassis"/>
		<child link="Frame_ATS4"/>
	</joint>
	<joint name="Joint_for_Frame_ATS5" type="fixed">
		<origin xyz="0.896872 0.63405 -0.830674" rpy="1.5708 -0 1.5708"/>
		<parent link="Body_Chassis"/>
		<child link="Frame_ATS5"/>
	</joint>
	<joint name="Joint_for_Frame_HS" type="fixed">
		<origin xyz="0.743443 0.576337 -1.50598" rpy="-0.463643 1.57079 0.463643"/>
		<parent link="Body_Chassis"/>
		<child link="Frame_HS"/>
	</joint>
	<joint name="Joint_for_Frame_ICU" type="fixed">
		<origin xyz="0.179008 -0.209 -1.04738" rpy="3.14159 -0 0"/>
		<parent link="Body_Chassis"/>
		<child link="Frame_ICU"/>
	</joint>
	<joint name="Joint_for_Frame_RDS" type="fixed">
		<origin xyz="0.138992 -0.298597 -1.17948" rpy="3.14159 -2.64698e-23 -0.157044"/>
		<parent link="Body_Chassis"/>
		<child link="Frame_RDS"/>
	</joint>
	<joint name="Joint_for_Frame_TIRS" type="fixed">
		<origin xyz="0.802591 0.616374 -1.55388" rpy="0 -0 -1.53621"/>
		<parent link="Body_Chassis"/>
		<child link="Frame_TIRS"/>
	</joint>
	<joint name="Joint_for_Frame_WS1" type="fixed">
		<origin xyz="0.854257 0.597514 -1.59588" rpy="0 -0 0.104166"/>
		<parent link="Body_Chassis"/>
		<child link="Frame_WS1"/>
	</joint>
	<joint name="Joint_for_Frame_WS2" type="fixed">
		<origin xyz="0.801386 0.623898 -1.62438" rpy="0 -0 2.19924"/>
		<parent link="Body_Chassis"/>
		<child link="Frame_WS2"/>
	</joint>
	<joint name="Joint_for_Frame_MOXIE" type="fixed">
		<origin xyz="-0.193552 -0.508 -1.04738" rpy="0 -0 0"/>
		<parent link="Body_Chassis"/>
		<child link="Frame_MOXIE"/>
	</joint>
	<joint name="Joint_for_Frame_MI" type="fixed">
		<origin xyz="0.804037 0.559028 -1.13288" rpy="0 -0 0"/>
		<parent link="Body_Chassis"/>
		<child link="Frame_MI"/>
	</joint>
	<joint name="Joint_for_Frame_MAZ" type="fixed">
		<origin xyz="0 0 0" rpy="0 -0 0"/>
		<parent link="Body_RSM_AZ"/>
		<child link="Frame_MAZ"/>
	</joint>
	<joint name="Joint_for_Frame_MEL" type="fixed">
		<origin xyz="0 0 0" rpy="-1.5708 -0 0"/>
		<parent link="Body_RSM_EL"/>
		<child link="Frame_MEL"/>
	</joint>
	<joint name="Joint_for_Frame_SCI" type="fixed">
		<origin xyz="-0.071379 -0.112 -0.114609" rpy="3.14159 -0 0"/>
		<parent link="Body_RSM_EL"/>
		<child link="Frame_SCI"/>
	</joint>
	<joint name="Joint_for_Frame_SCRMI" type="fixed">
		<origin xyz="-0.062479 -0.112 -0.213609" rpy="3.14159 -0 0"/>
		<parent link="Body_RSM_EL"/>
		<child link="Frame_SCRMI"/>
	</joint>
	<joint name="Joint_for_Frame_SCLIBS" type="fixed">
		<origin xyz="-0.062479 -0.112 -0.213609" rpy="3.14159 -0 0"/>
		<parent link="Body_RSM_EL"/>
		<child link="Frame_SCLIBS"/>
	</joint>
	<joint name="Joint_for_Frame_SCIR" type="fixed">
		<origin xyz="-0.062479 -0.112 -0.213609" rpy="3.14159 -0 0"/>
		<parent link="Body_RSM_EL"/>
		<child link="Frame_SCIR"/>
	</joint>
	<joint name="Joint_for_Frame_MCL" type="fixed">
		<origin xyz="-0.085135 -0.126634 -0.065127" rpy="0 -0 0.0219954"/>
		<parent link="Body_RSM_EL"/>
		<child link="Frame_MCL"/>
	</joint>
	<joint name="Joint_for_Frame_MCR" type="fixed">
		<origin xyz="-0.085134 0.121506 -0.065128" rpy="0 -0 -0.0220028"/>
		<parent link="Body_RSM_EL"/>
		<child link="Frame_MCR"/>
	</joint>
	<joint name="Joint_for_Frame_NCL" type="fixed">
		<origin xyz="0.080595 -0.214392 -0.057109" rpy="1.57079 1.57079 1.57079"/>
		<parent link="Body_RSM_EL"/>
		<child link="Frame_NCL"/>
	</joint>
	<joint name="Joint_for_Frame_NCR" type="fixed">
		<origin xyz="0.080595 0.209607 -0.057111" rpy="1.57079 1.57079 1.57079"/>
		<parent link="Body_RSM_EL"/>
		<child link="Frame_NCR"/>
	</joint>
	<joint name="Joint_for_Frame_NCL_FOV" type="fixed">
		<origin xyz="0.143595 -0.214392 -0.057109" rpy="1.57079 1.57079 1.57079"/>
		<parent link="Body_RSM_EL"/>
		<child link="Frame_NCL_FOV"/>
	</joint>
	<joint name="Joint_for_Frame_NCR_FOV" type="fixed">
		<origin xyz="0.143595 0.209607 -0.057111" rpy="1.57079 1.57079 1.57079"/>
		<parent link="Body_RSM_EL"/>
		<child link="Frame_NCR_FOV"/>
	</joint>
	<joint name="Joint_for_Frame_ROCKER_L" type="fixed">
		<origin xyz="0 0 0" rpy="-1.5708 -0 0"/>
		<parent link="Body_RockerLeft"/>
		<child link="Frame_ROCKER_L"/>
	</joint>
	<joint name="Joint_for_Frame_ROCKER_R" type="fixed">
		<origin xyz="0 0 0" rpy="-1.5708 -0 0"/>
		<parent link="Body_RockerRight"/>
		<child link="Frame_ROCKER_R"/>
	</joint>
	<joint name="Joint_for_Frame_BOGIE_L" type="fixed">
		<origin xyz="0 0 0" rpy="-1.5708 -0 0"/>
		<parent link="Body_BogieLeft"/>
		<child link="Frame_BOGIE_L"/>
	</joint>
	<joint name="Joint_for_Frame_BOGIE_R" type="fixed">
		<origin xyz="0 0 0" rpy="-1.5708 -0 0"/>
		<parent link="Body_BogieRight"/>
		<child link="Frame_BOGIE_R"/>
	</joint>
	<joint name="Joint_for_Frame_DIFF" type="fixed">
		<origin xyz="0 0 0" rpy="0 -0 0"/>
		<parent link="Body_Differential"/>
		<child link="Frame_DIFF"/>
	</joint>
	<joint name="Joint_for_Frame_STEER_LF" type="fixed">
		<origin xyz="0 0 0" rpy="0 -0 0"/>
		<parent link="Body_SteerLeftFront"/>
		<child link="Frame_STEER_LF"/>
	</joint>
	<joint name="Joint_for_Frame_STEER_LR" type="fixed">
		<origin xyz="0 0 0" rpy="0 -0 0"/>
		<parent link="Body_SteerLeftRear"/>
		<child link="Frame_STEER_LR"/>
	</joint>
	<joint name="Joint_for_Frame_STEER_RF" type="fixed">
		<origin xyz="0 0 0" rpy="0 -0 0"/>
		<parent link="Body_SteerRightFront"/>
		<child link="Frame_STEER_RF"/>
	</joint>
	<joint name="Joint_for_Frame_STEER_RR" type="fixed">
		<origin xyz="0 0 0" rpy="0 -0 0"/>
		<parent link="Body_SteerRightRear"/>
		<child link="Frame_STEER_RR"/>
	</joint>
	<joint name="Joint_for_Frame_WHEEL_LF" type="fixed">
		<origin xyz="0 0 0" rpy="0 -0 0"/>
		<parent link="Body_WheelLeftFront"/>
		<child link="Frame_WHEEL_LF"/>
	</joint>
	<joint name="Joint_for_Frame_WHEEL_LM" type="fixed">
		<origin xyz="0 0 0" rpy="0 -0 0"/>
		<parent link="Body_WheelLeftMiddle"/>
		<child link="Frame_WHEEL_LM"/>
	</joint>
	<joint name="Joint_for_Frame_WHEEL_LR" type="fixed">
		<origin xyz="0 0 0" rpy="0 -0 0"/>
		<parent link="Body_WheelLeftRear"/>
		<child link="Frame_WHEEL_LR"/>
	</joint>
	<joint name="Joint_for_Frame_WHEEL_RF" type="fixed">
		<origin xyz="0 0 0" rpy="0 -0 0"/>
		<parent link="Body_WheelRightFront"/>
		<child link="Frame_WHEEL_RF"/>
	</joint>
	<joint name="Joint_for_Frame_WHEEL_RM" type="fixed">
		<origin xyz="0 0 0" rpy="0 -0 0"/>
		<parent link="Body_WheelRightMiddle"/>
		<child link="Frame_WHEEL_RM"/>
	</joint>
	<joint name="Joint_for_Frame_WHEEL_RR" type="fixed">
		<origin xyz="0 0 0" rpy="0 -0 0"/>
		<parent link="Body_WheelRightRear"/>
		<child link="Frame_WHEEL_RR"/>
	</joint>
	<joint name="Joint_for_Frame_RIMUA" type="fixed">
		<origin xyz="0.310906 -0.441586 -1.04738" rpy="0 0 -1.5708"/>
		<parent link="Body_Chassis"/>
		<child link="Frame_RIMUA"/>
	</joint>
	<joint name="Joint_for_Frame_RIMUB" type="fixed">
		<origin xyz="0.403906 -0.441586 -1.04738" rpy="0 0 -1.5708"/>
		<parent link="Body_Chassis"/>
		<child link="Frame_RIMUB"/>
	</joint>
	<joint name="Joint_for_Frame_RIMFAX" type="fixed">
		<origin xyz="-0.79478 0 -0.71724" rpy="-0.686834 -5.55112e-17 1.5708"/>
		<parent link="Body_Chassis"/>
		<child link="Frame_RIMFAX"/>
	</joint>
	<joint name="Joint_for_Frame_HGAS" type="fixed">
		<origin xyz="-0.36998 -0.475 -1.13288" rpy="0 -0 0.436316"/>
		<parent link="Body_Chassis"/>
		<child link="Frame_HGAS"/>
	</joint>
	<joint name="Joint_for_Frame_HGAG" type="fixed">
		<origin xyz="0 0 0" rpy="3.14159 -0 0"/>
		<parent link="Body_HGA_AZ"/>
		<child link="Frame_HGAG"/>
	</joint>
	<joint name="Joint_for_Frame_ANT" type="fixed">
		<origin xyz="0.2084 0 0" rpy="2.35619 -0 0"/>
		<parent link="Body_HGA_EL"/>
		<child link="Frame_ANT"/>
	</joint>
	<joint name="Joint_for_Frame_RA_BASE" type="fixed">
		<origin xyz="0.967871 -0.561 -0.90838" rpy="0 -0 0"/>
		<parent link="Body_Chassis"/>
		<child link="Frame_RA_BASE"/>
	</joint>
	<joint name="Joint_for_Frame_RA1" type="fixed">
		<origin xyz="0 0 0" rpy="0 -0 0"/>
		<parent link="Body_RA_Link1"/>
		<child link="Frame_RA1"/>
	</joint>
	<joint name="Joint_for_Frame_RA2" type="fixed">
		<origin xyz="0 0 0" rpy="1.5708 -0 0"/>
		<parent link="Body_RA_Link2"/>
		<child link="Frame_RA2"/>
	</joint>
	<joint name="Joint_for_Frame_RA3" type="fixed">
		<origin xyz="0 0 0" rpy="1.5708 -0 0"/>
		<parent link="Body_RA_Link3"/>
		<child link="Frame_RA3"/>
	</joint>
	<joint name="Joint_for_Frame_RA4" type="fixed">
		<origin xyz="0 0 0" rpy="1.5708 -0 0"/>
		<parent link="Body_RA_Link4"/>
		<child link="Frame_RA4"/>
	</joint>
	<joint name="Joint_for_Frame_RA5" type="fixed">
		<origin xyz="0 0 0" rpy="0 -0 0"/>
		<parent link="Body_RA_Link5"/>
		<child link="Frame_RA5"/>
	</joint>
	<joint name="Joint_for_Frame_RA6" type="fixed">
		<origin xyz="0 0 -0.208" rpy="0 -0 0"/>
		<parent link="Body_RA_Link5"/>
		<child link="Frame_RA6"/>
	</joint>
	<joint name="Joint_for_Frame_TURRET" type="fixed">
		<origin xyz="0 0 -0.3285" rpy="0 -0 0"/>
		<parent link="Body_RA_Link5"/>
		<child link="Frame_TURRET"/>
	</joint>
	<joint name="Joint_for_Frame_DOCKING_POST" type="fixed">
		<origin xyz="0.29715 0 -0.3285" rpy="0 -0 0"/>
		<parent link="Body_RA_Link5"/>
		<child link="Frame_DOCKING_POST"/>
	</joint>
	<joint name="Joint_for_Frame_DRILL" type="fixed">
		<origin xyz="0.373 0 -0.3285" rpy="0 -0 0"/>
		<parent link="Body_RA_Link5"/>
		<child link="Frame_DRILL"/>
	</joint>
	<joint name="Joint_for_Frame_FCS" type="fixed">
		<origin xyz="-0.37138 0 -0.2704" rpy="0 -0 3.14159"/>
		<parent link="Body_RA_Link5"/>
		<child link="Frame_FCS"/>
	</joint>
	<joint name="Joint_for_Frame_GDRT" type="fixed">
		<origin xyz="-0.283436 0.237831 -0.2625" rpy="0 -0 2.44346"/>
		<parent link="Body_RA_Link5"/>
		<child link="Frame_GDRT"/>
	</joint>
	<joint name="Joint_for_Frame_PIXL" type="fixed">
		<origin xyz="0 0.3577 -0.3385" rpy="0 -0 1.5708"/>
		<parent link="Body_RA_Link5"/>
		<child link="Frame_PIXL"/>
	</joint>
	<joint name="Joint_for_Frame_SHERLOC" type="fixed">
		<origin xyz="0.143585 -0.305411 -0.292126" rpy="0 -0 -1.22173"/>
		<parent link="Body_RA_Link5"/>
		<child link="Frame_SHERLOC"/>
	</joint>
	<joint name="Joint_for_Frame_WATSON" type="fixed">
		<origin xyz="-0.115541 -0.317445 -0.342785" rpy="0 0 -1.91986"/>
		<parent link="Body_RA_Link5"/>
		<child link="Frame_WATSON"/>
	</joint>
	<joint name="Joint_for_Frame_CAL_MC1" type="fixed">
		<origin xyz="-0.28518 0.414008 -1.30252" rpy="3.14159 -0 0"/>
		<parent link="Body_Chassis"/>
		<child link="Frame_CAL_MC1"/>
	</joint>
	<joint name="Joint_for_Frame_CAL_MC2" type="fixed">
		<origin xyz="-0.23089 0.436008 -1.26302" rpy="3.14159 -0 0"/>
		<parent link="Body_Chassis"/>
		<child link="Frame_CAL_MC2"/>
	</joint>
	<joint name="Joint_for_Frame_CAL_SC" type="fixed">
		<origin xyz="-0.73817 0.5365 -1.29482" rpy="2.26898 -0 1.5708"/>
		<parent link="Body_Chassis"/>
		<child link="Frame_CAL_SC"/>
	</joint>
	<joint name="Joint_for_Frame_CAL_PIXL" type="fixed">
		<origin xyz="-0.1082 -0.01669 -0.025" rpy="0 -0 2.61799"/>
		<parent link="Body_RA_Link1"/>
		<child link="Frame_CAL_PIXL"/>
	</joint>
	<joint name="Joint_for_Frame_CAL_SHERLOC" type="fixed">
		<origin xyz="1.32087 0.488 -0.87888" rpy="0 -0 0"/>
		<parent link="Body_Chassis"/>
		<child link="Frame_CAL_SHERLOC"/>
	</joint>
</robot>
